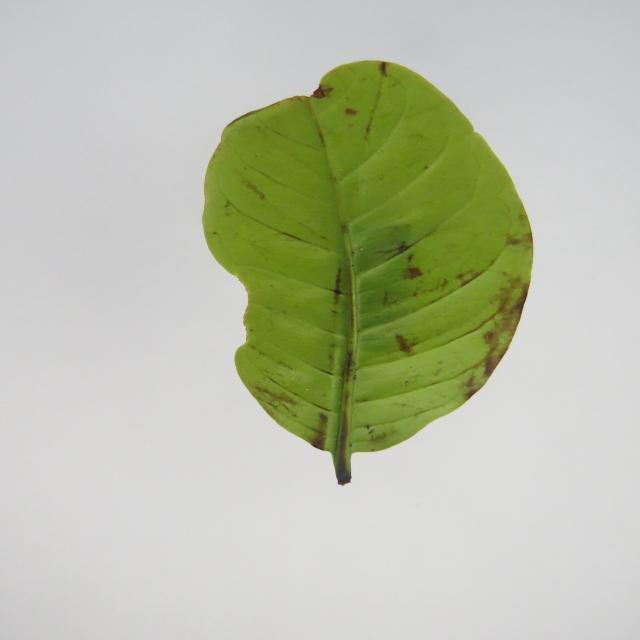DeficienciaNutricional-Boro: (203, 61, 532, 484)
